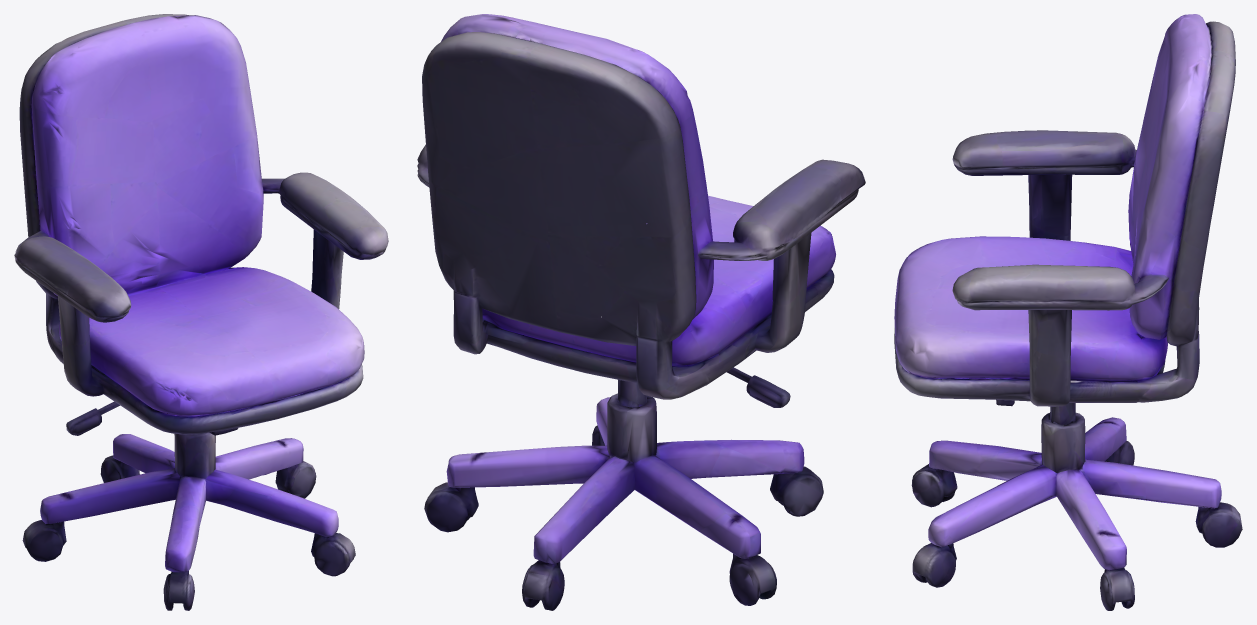
The model's file is junior_chair.glb.
The picture shows the model from 3 angles, left to right: view 1: azimuth 30°, elevation 25°; view 2: azimuth 150°, elevation 25°; view 3: azimuth 270°, elevation 25°; orthographic projection. The views are drawn at different scales.
Parts seen in each view (by area): view 1: tripo_node_e1912ee9-aca6-4922-8043-939821581cc1; view 2: tripo_node_e1912ee9-aca6-4922-8043-939821581cc1; view 3: tripo_node_e1912ee9-aca6-4922-8043-939821581cc1.
Part boxes in pixels (x1,y1,x2,y2): tripo_node_e1912ee9-aca6-4922-8043-939821581cc1: (14,14,388,610); tripo_node_e1912ee9-aca6-4922-8043-939821581cc1: (417,14,865,610); tripo_node_e1912ee9-aca6-4922-8043-939821581cc1: (894,14,1242,610).
Bounding box in the file's own units: 0.6626 × 0.9783 × 0.6159.
Materials: 1 (1 with a texture image).
